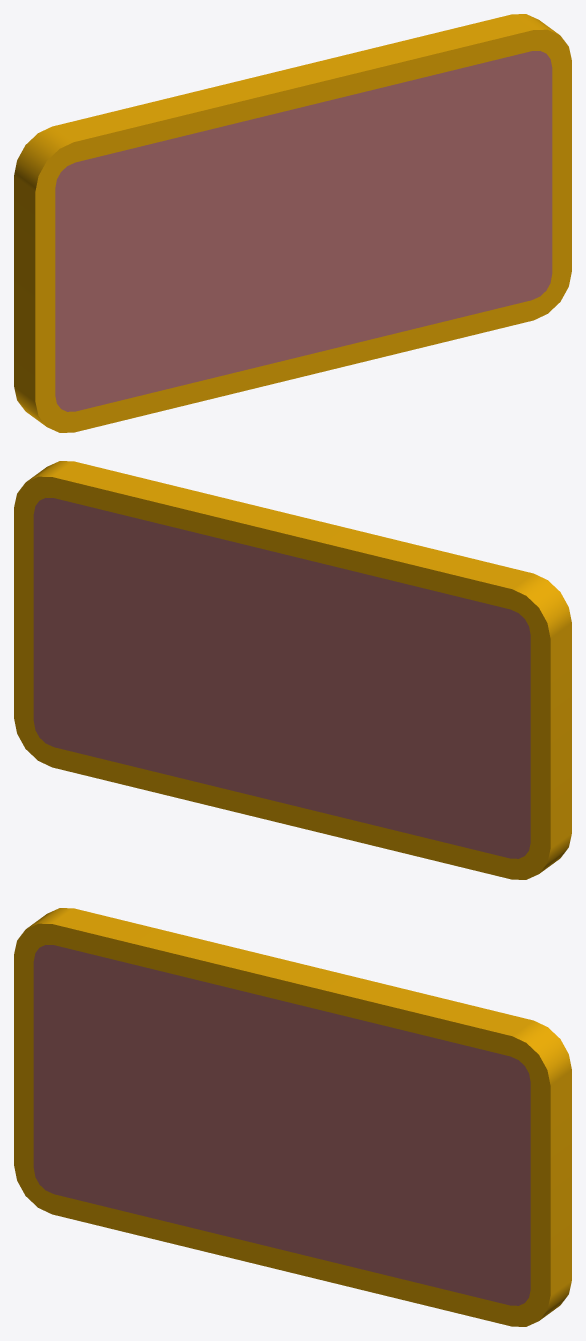
The picture shows the model from 3 angles, top to bottom: view 1: azimuth 30°, elevation 25°; view 2: azimuth 150°, elevation 25°; view 3: azimuth 330°, elevation 25°; orthographic projection.
Parts seen in each view (by area): view 1: Rectangle; view 2: Rectangle; view 3: Rectangle.
Part boxes in pixels (bbox=[...]): Rectangle: bbox=[14, 14, 571, 432]; Rectangle: bbox=[14, 461, 571, 879]; Rectangle: bbox=[14, 908, 571, 1326].
Size of the model in its own units: 1.04 by 0.5359 by 0.0718.
